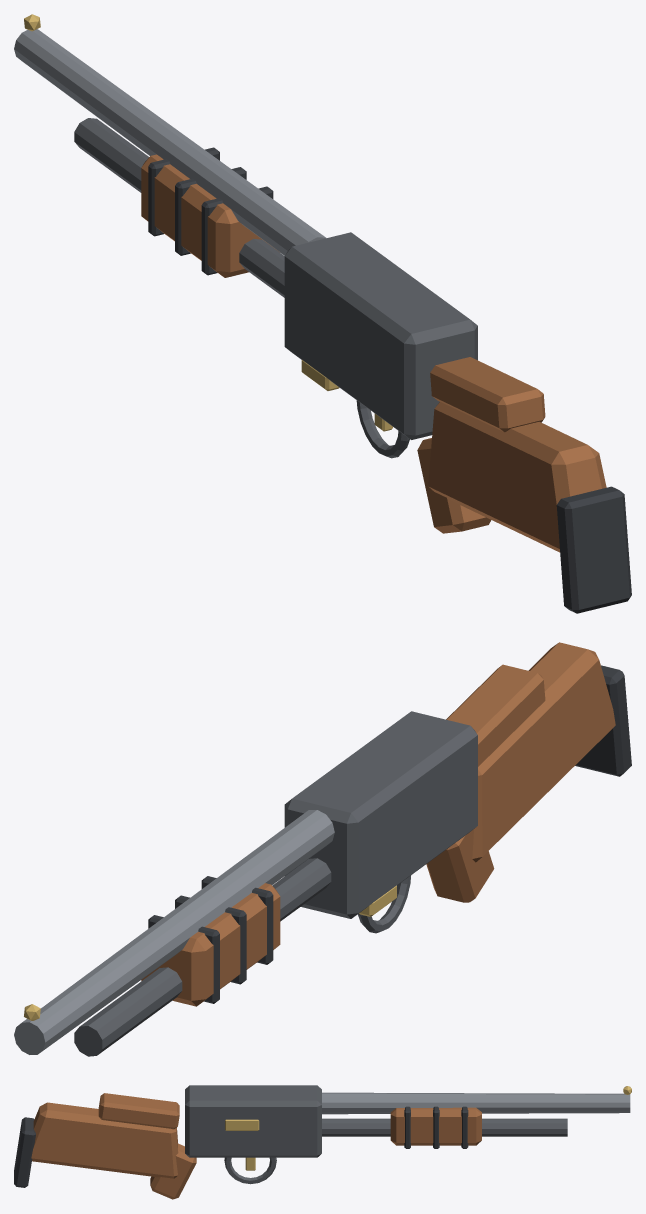
The model's file is shotgun.glb.
3 renders of one model, top to bottom at view 1: azimuth 30°, elevation 25°; view 2: azimuth 150°, elevation 25°; view 3: azimuth 270°, elevation 25°, orthographic. The views are drawn at different scales.
Parts seen in each view (by area): view 1: Shotgun_Receiver, Shotgun_Stock, Shotgun_Barrel, Shotgun_Buttpad, Shotgun_Pump, Shotgun_Comb, Shotgun_Tube, Shotgun_Grip, Shotgun_TriggerGuard, Shotgun_PumpRib_0; view 2: Shotgun_Receiver, Shotgun_Stock, Shotgun_Barrel, Shotgun_Tube, Shotgun_Pump, Shotgun_Comb, Shotgun_Grip, Shotgun_Buttpad, Shotgun_TriggerGuard, Shotgun_PumpRib_0, Shotgun_PumpRib_1, Shotgun_PumpRib_2; view 3: Shotgun_Receiver, Shotgun_Stock, Shotgun_Barrel, Shotgun_Tube, Shotgun_Pump, Shotgun_Comb, Shotgun_Grip, Shotgun_Buttpad, Shotgun_TriggerGuard, Shotgun_Ejection, Shotgun_PumpRib_2, Shotgun_PumpRib_0 (+1 smaller).
Boxes of the visible parts, box(x1,y1,x2,y2) form: Shotgun_Receiver: box(284, 232, 477, 439); Shotgun_Stock: box(428, 402, 606, 552); Shotgun_Barrel: box(14, 29, 326, 255); Shotgun_Buttpad: box(556, 486, 631, 613); Shotgun_Pump: box(141, 154, 279, 277); Shotgun_Comb: box(430, 357, 545, 432); Shotgun_Tube: box(74, 118, 284, 297); Shotgun_Grip: box(417, 438, 491, 533); Shotgun_TriggerGuard: box(356, 400, 409, 458); Shotgun_PumpRib_0: box(201, 186, 273, 275); Shotgun_Receiver: box(284, 711, 477, 918); Shotgun_Stock: box(472, 642, 615, 862); Shotgun_Barrel: box(14, 810, 334, 1054); Shotgun_Tube: box(74, 858, 331, 1056); Shotgun_Pump: box(141, 883, 280, 1006); Shotgun_Comb: box(446, 664, 545, 766); Shotgun_Grip: box(426, 829, 494, 902); Shotgun_Buttpad: box(575, 665, 631, 776); Shotgun_TriggerGuard: box(358, 875, 410, 933); Shotgun_PumpRib_0: box(201, 876, 273, 964); Shotgun_PumpRib_1: box(175, 895, 246, 984); Shotgun_PumpRib_2: box(148, 915, 219, 1003); Shotgun_Receiver: box(185, 1085, 321, 1157); Shotgun_Stock: box(31, 1102, 178, 1178); Shotgun_Barrel: box(322, 1092, 630, 1114); Shotgun_Tube: box(322, 1118, 567, 1136); Shotgun_Pump: box(390, 1107, 481, 1145); Shotgun_Comb: box(98, 1093, 179, 1129); Shotgun_Grip: box(150, 1143, 196, 1199); Shotgun_Buttpad: box(14, 1117, 35, 1187); Shotgun_TriggerGuard: box(224, 1157, 276, 1184); Shotgun_Ejection: box(225, 1119, 259, 1130); Shotgun_PumpRib_2: box(461, 1106, 468, 1148); Shotgun_PumpRib_0: box(404, 1106, 410, 1148).
Bounding box in the file's own units: 0.083 × 0.213 × 1.08.
